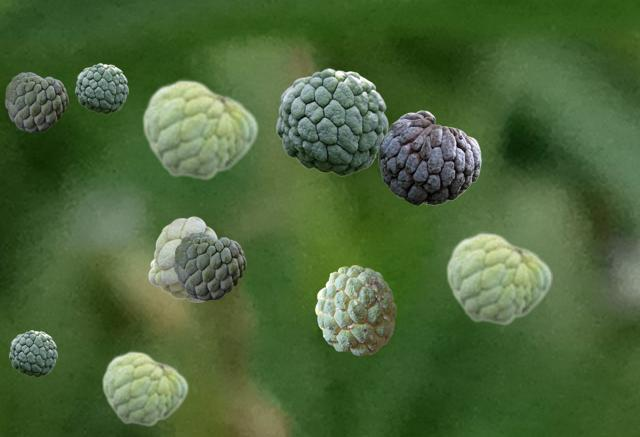atis: (276, 68, 387, 175), (141, 78, 257, 180), (445, 231, 551, 325), (378, 110, 480, 204), (315, 265, 395, 354), (101, 350, 187, 426), (148, 216, 217, 301), (174, 232, 245, 299), (5, 72, 67, 131), (75, 63, 127, 113), (9, 330, 56, 376)
